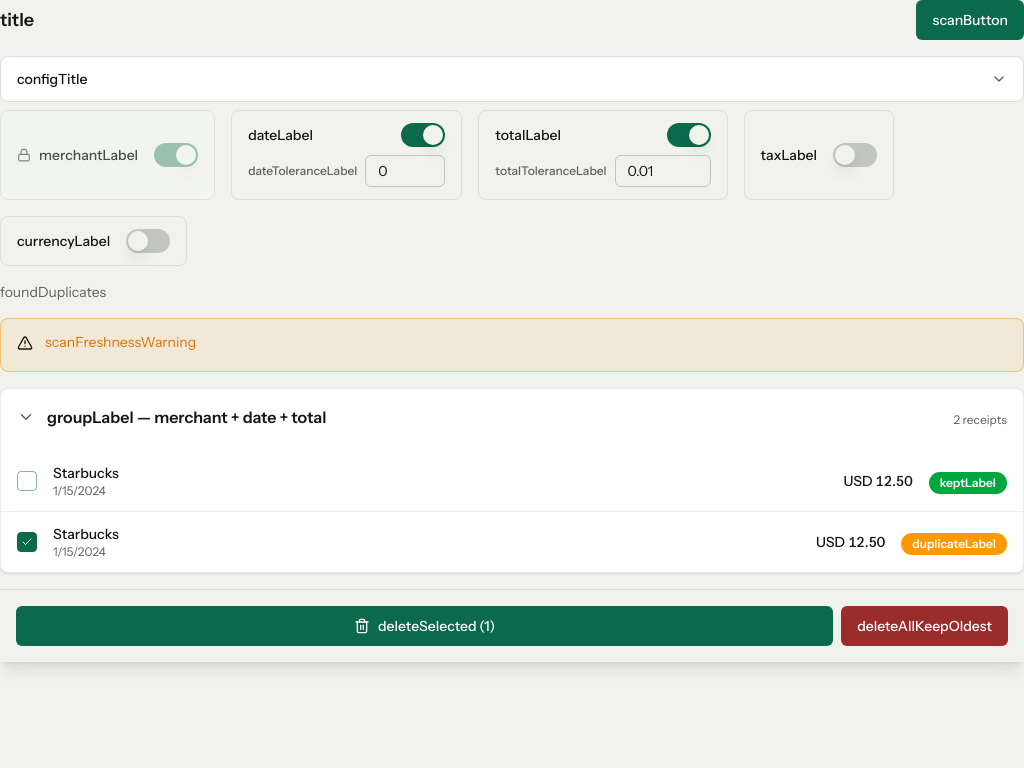
DuplicateDetectionPanel › opens confirmation dialog when delete selected is clicked with checked items
Step 1. Click the button "deleteSelected (1)" → (425, 626), box [16,606,833,646]
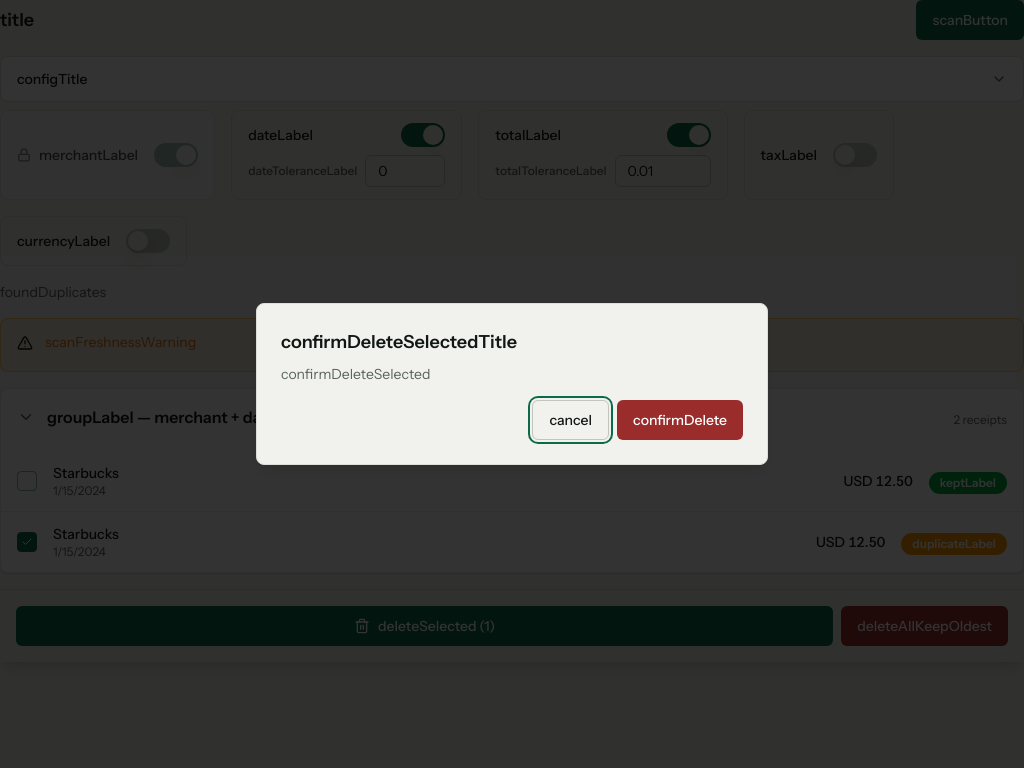
Check: the heading "confirmDeleteSelectedTitle" is shown, box [281,331,517,353]
Check: the button "confirmDelete" is shown, box [617,400,743,440]
Check: the button "cancel" is shown, box [532,400,609,440]
